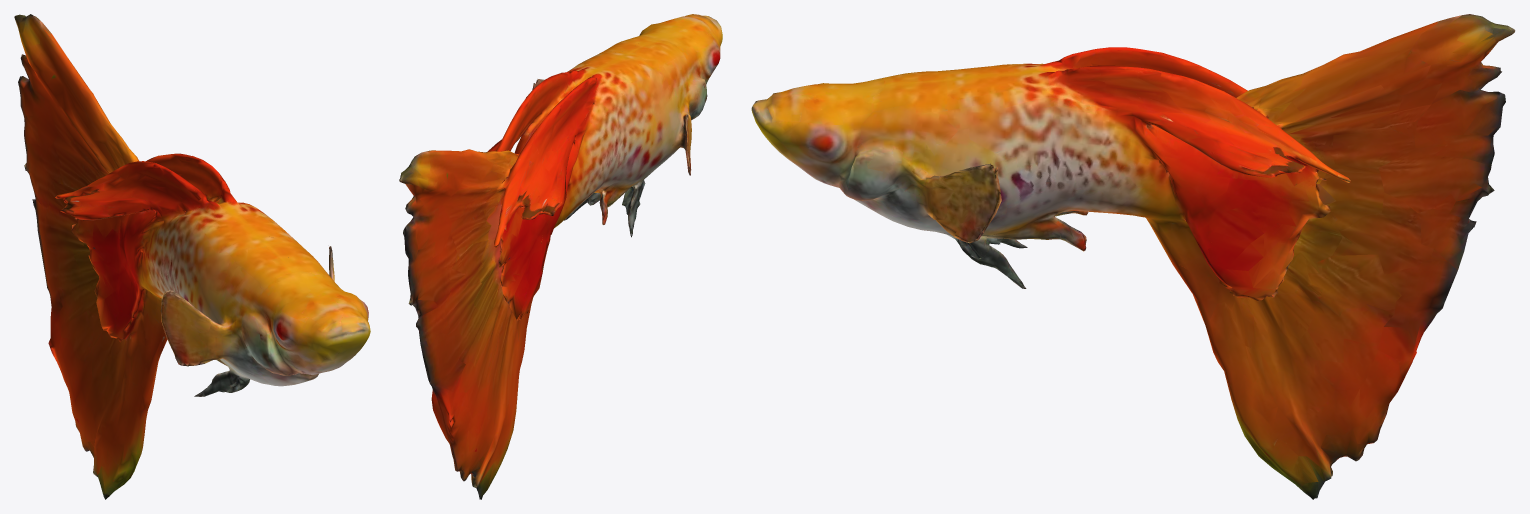
File: strain-albino_red.glb
3 renders of one model, left to right at view 1: azimuth 30°, elevation 25°; view 2: azimuth 150°, elevation 25°; view 3: azimuth 270°, elevation 25°, orthographic. The views are drawn at different scales.
Visible parts, largest first — view 1: Mesh_0.001; view 2: Mesh_0.001; view 3: Mesh_0.001.
Part boxes in pixels (left/top/right/bottom): Mesh_0.001: left=14, top=14, right=370, bottom=499; Mesh_0.001: left=399, top=14, right=722, bottom=499; Mesh_0.001: left=751, top=14, right=1515, bottom=499.
Bounding box in the file's own units: 0.0107 × 0.0257 × 0.0367.
2 materials, 2 textured.
